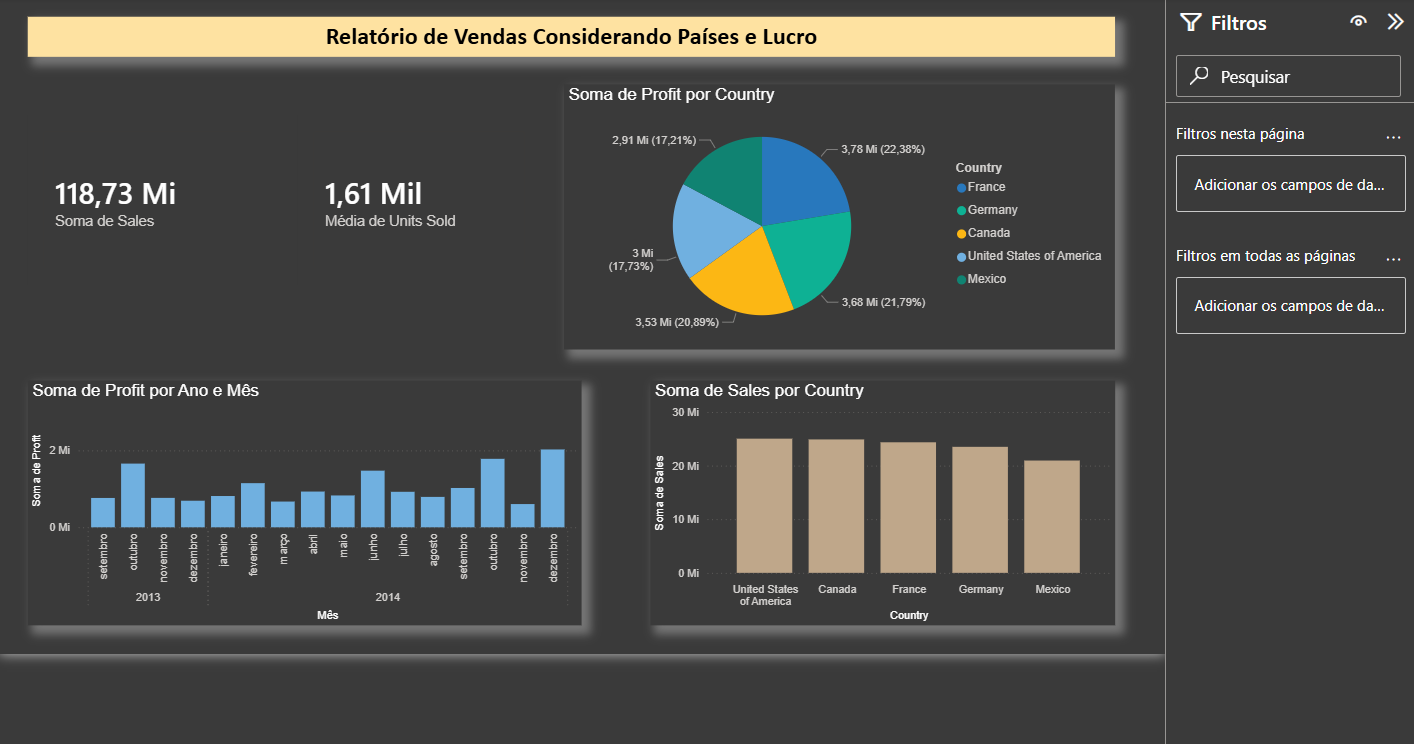

This screenshot's page, from the dashboard's own definition file:
{"tool":"powerbi","page":{"name":"Página 1","canvas":[1280,720],"ordinal":0},"visuals":[{"type":"cardVisual","fields":{"Data":["Sum(financials.Sales)"]},"box":[31.6,129,263.5,185.2],"z":0},{"type":"cardVisual","fields":{"Data":["Avg(financials.Units Sold)"]},"box":[328,129,267.6,185.2],"z":1000},{"type":"pieChart","fields":{"Category":["financials.Country"],"Y":["Sum(financials.Profit)"]},"box":[620.2,94.7,605.1,290.9],"z":2000},{"type":"clusteredColumnChart","fields":{"Y":["Sum(financials.Profit)"],"Category":["financials.Date.Variation.Hierarquia de datas.Ano","financials.Date.Variation.Hierarquia de datas.Mês"]},"box":[31.6,419.9,607.9,269],"z":3000},{"type":"clusteredColumnChart","fields":{"Category":["financials.Country"],"Y":["Sum(financials.Sales)"]},"box":[714.9,419.9,510.5,269],"z":4000},{"type":"textbox","box":[31.6,20.6,1193.8,43.9],"z":5000}]}

Visuals, with their boxes on the page's 1280x720 design canvas (x1, y1, x2, y2). These are canvas units, not pixel positions in the 1414x744 screenshot, which may show the page scaled, cropped or inside an application window:
cardVisual - Sum(financials.Sales): l=32, t=129, r=295, b=314
cardVisual - Avg(financials.Units Sold): l=328, t=129, r=596, b=314
pieChart - financials.Country x Sum(financials.Profit): l=620, t=95, r=1225, b=386
clusteredColumnChart - Sum(financials.Profit) x financials.Date.Variation.Hierarquia de datas.Ano: l=32, t=420, r=640, b=689
clusteredColumnChart - financials.Country x Sum(financials.Sales): l=715, t=420, r=1225, b=689
textbox: l=32, t=21, r=1225, b=64
